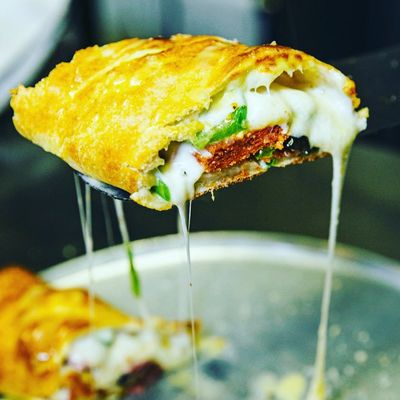soup: (12, 34, 362, 216)
